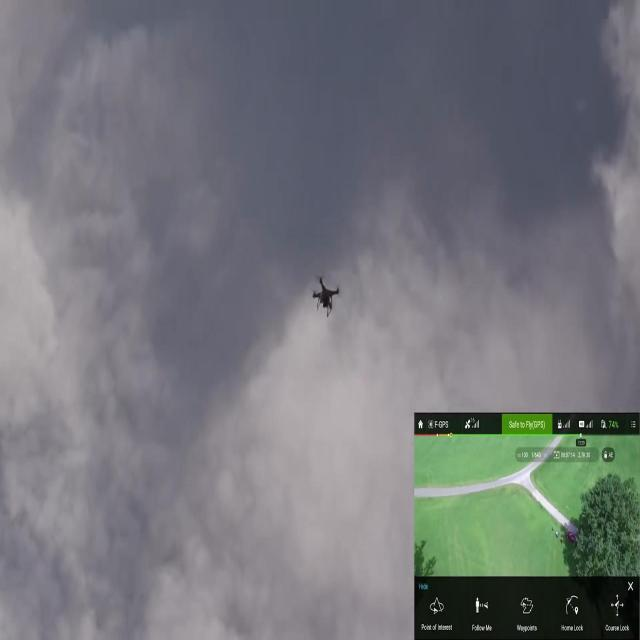drone: (308, 270, 340, 315)
